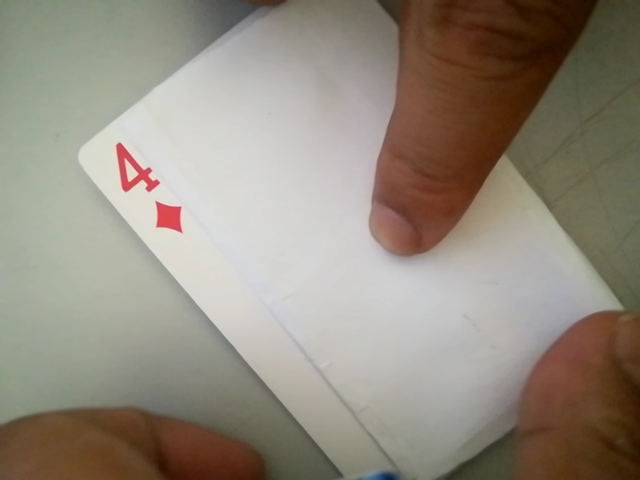fk 4: (99, 136, 190, 237)
